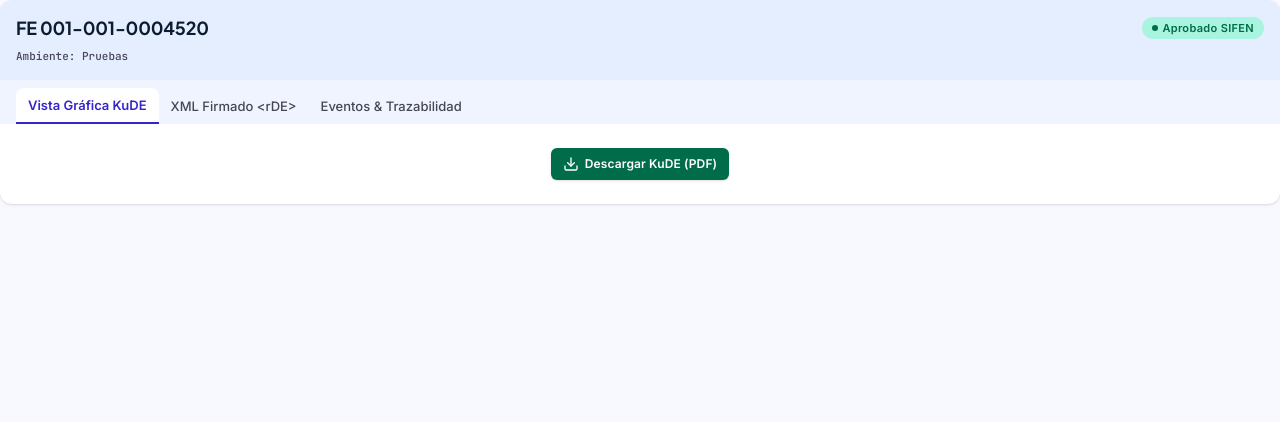
Test case: DocumentsDetail tabs › keeps the cancellation window of the document type
The image size is (1280, 422).
Click the tab "Eventos & Trazabilidad".
click(391, 106)  # box top-left (308, 89), bottom-right (474, 123)
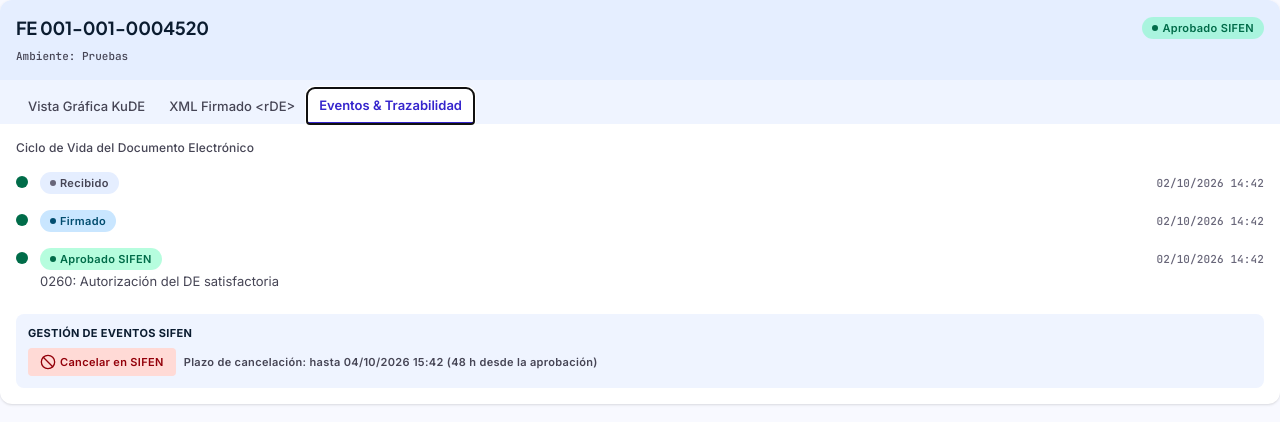
Now the button "Cancelar en SIFEN" is shown, box top-left (28, 348), bottom-right (176, 376)
Now the text "Plazo de cancelación: hasta 04/10/2026 15:42 (48 h desde la aprobación)" is shown, box top-left (184, 355), bottom-right (598, 369)
